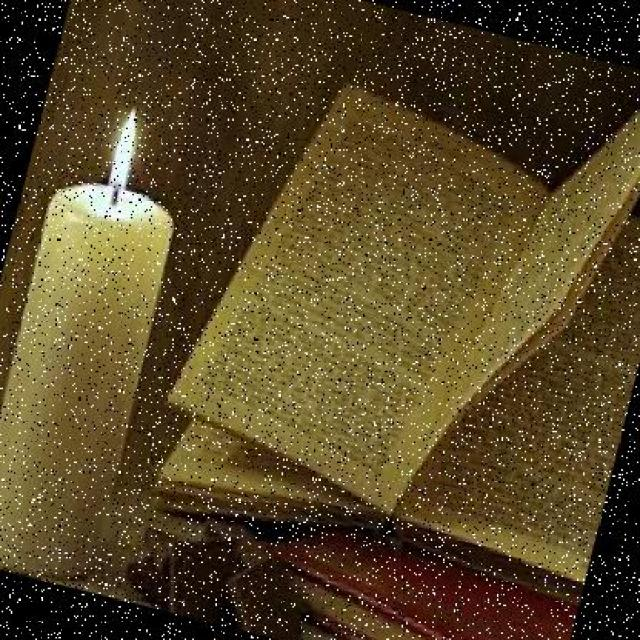fire: (94, 96, 161, 196)
